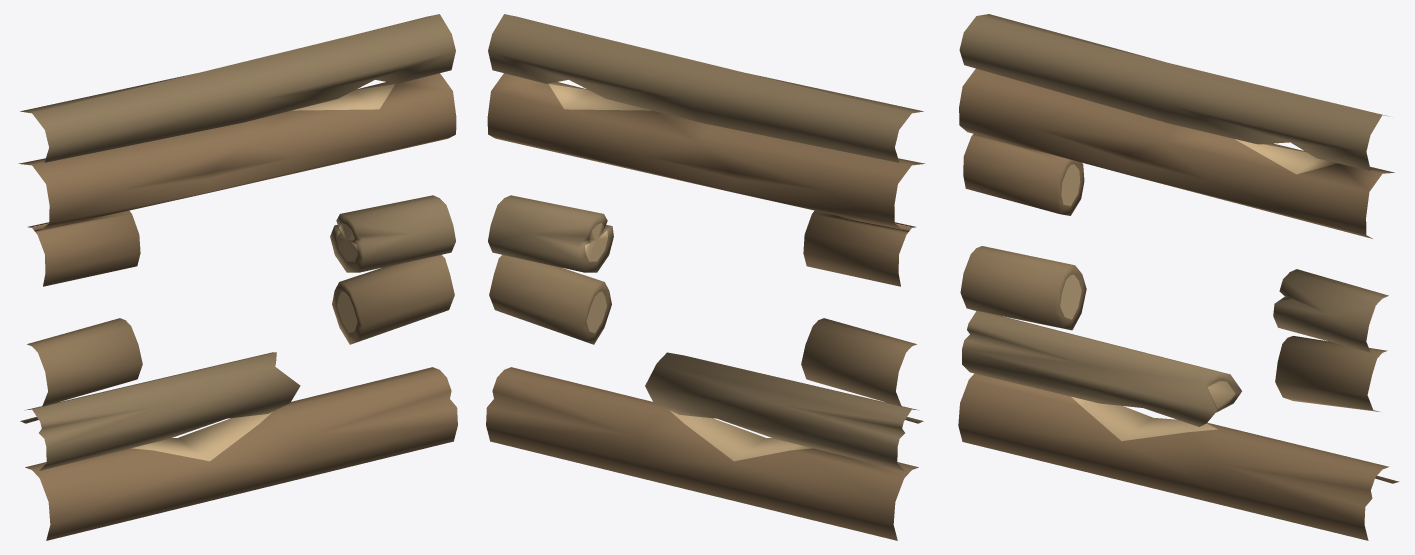
The model's file is rpgpp_av_wall_03_3x3_window_01a.gltf.
The picture shows the model from 3 angles, left to right: view 1: azimuth 30°, elevation 25°; view 2: azimuth 150°, elevation 25°; view 3: azimuth 330°, elevation 25°; orthographic projection.
Visible parts, largest first — view 1: rpgpp_av_wall_03_3x3_window_01a; view 2: rpgpp_av_wall_03_3x3_window_01a; view 3: rpgpp_av_wall_03_3x3_window_01a.
Boxes of the visible parts, x1,y1,x2,y2 form: rpgpp_av_wall_03_3x3_window_01a: [18, 14, 457, 540]; rpgpp_av_wall_03_3x3_window_01a: [486, 14, 925, 540]; rpgpp_av_wall_03_3x3_window_01a: [958, 14, 1399, 540].
Size of the model in its own units: 0.03 by 0.03 by 0.00463.
1 material, 1 textured.
